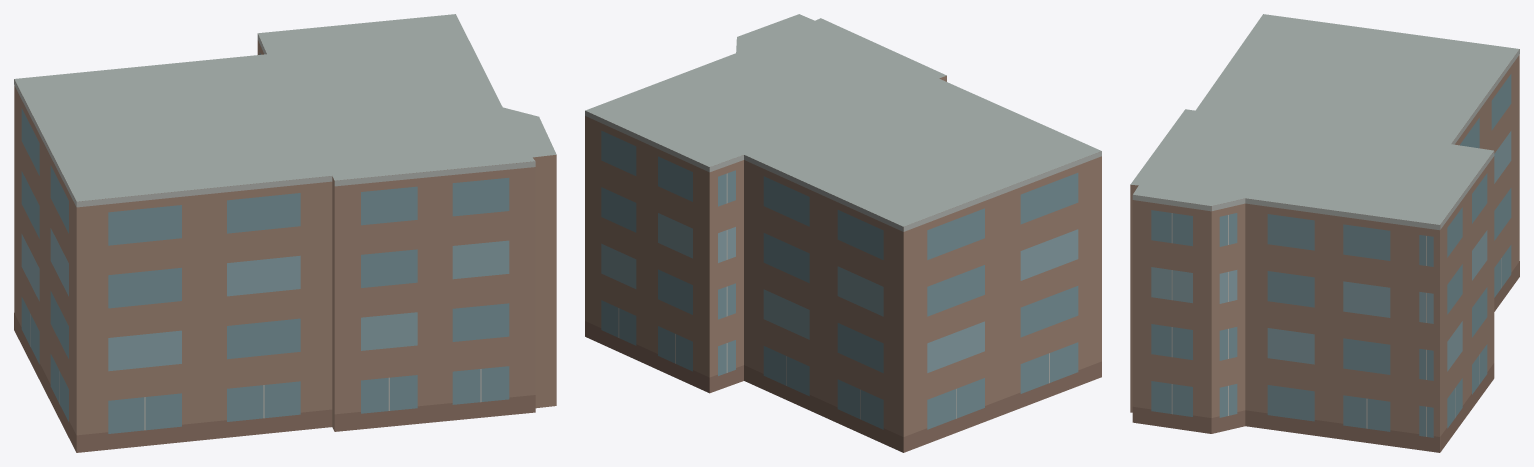
File: survey-upis-33039131.glb
3 views of the same model, side by side, from view 1: azimuth 30°, elevation 25°; view 2: azimuth 150°, elevation 25°; view 3: azimuth 270°, elevation 25° (orthographic). The views are drawn at different scales.
Parts seen in each view (by area): view 1: survey-upis-33039131.tmp; view 2: survey-upis-33039131.tmp; view 3: survey-upis-33039131.tmp.
Boxes of the visible parts, left/top/right/bottom form: survey-upis-33039131.tmp: left=14, top=14, right=556, bottom=452; survey-upis-33039131.tmp: left=585, top=14, right=1101, bottom=452; survey-upis-33039131.tmp: left=1130, top=14, right=1519, bottom=452.
Size of the model in its own units: 21.06 by 10.6 by 16.43.
